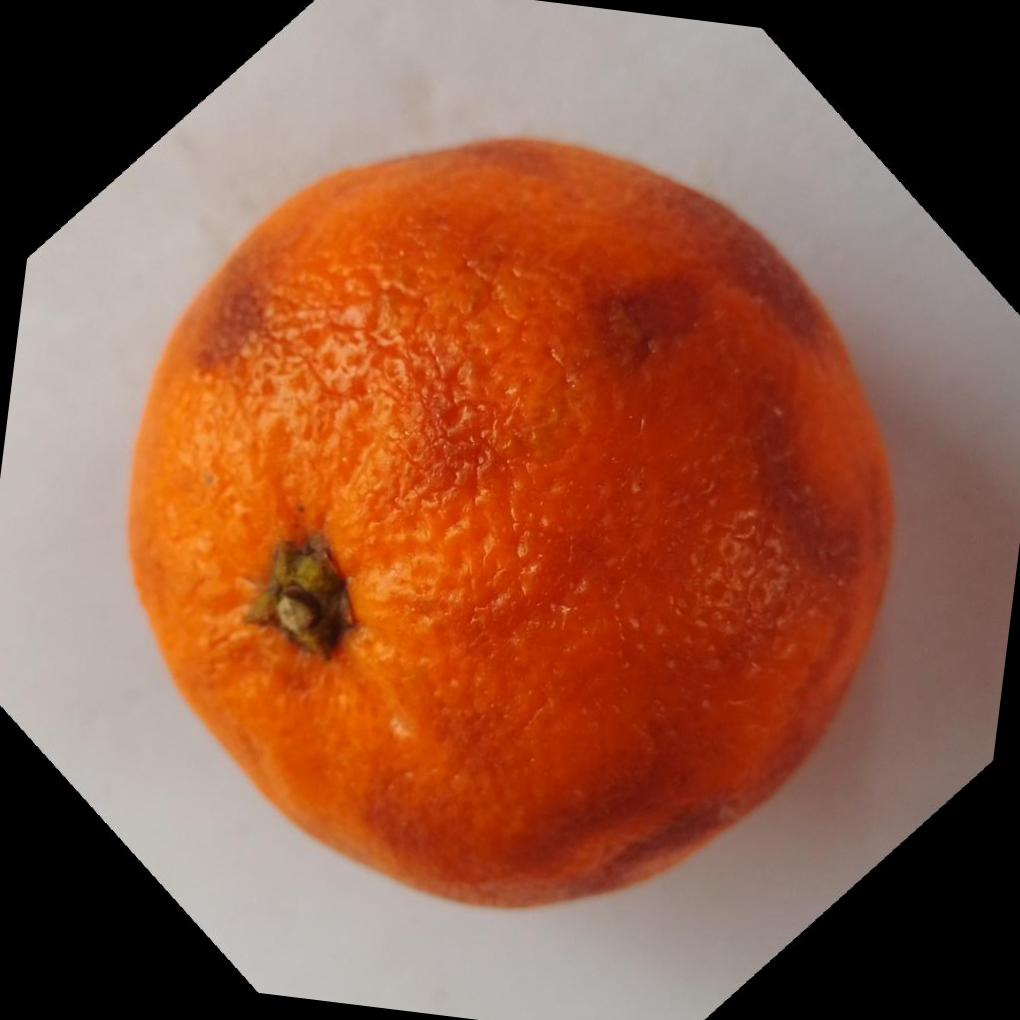FreshOrange: (127, 136, 901, 914)
